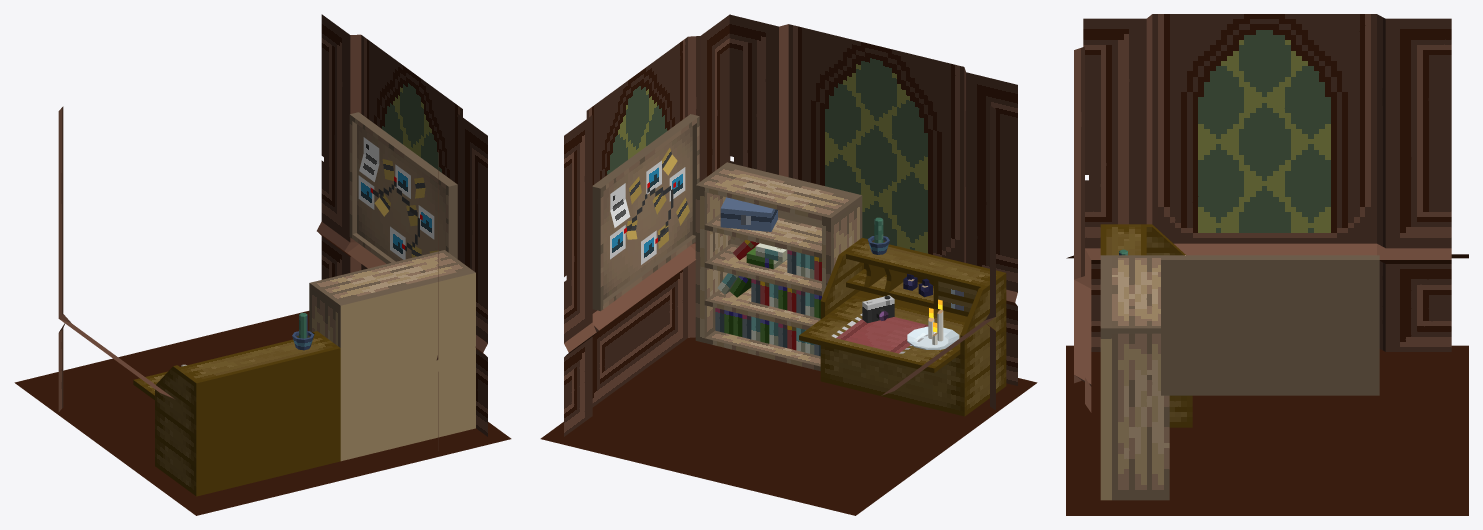
File: office.glb
3 views of the same model, side by side, from view 1: azimuth 30°, elevation 25°; view 2: azimuth 150°, elevation 25°; view 3: azimuth 270°, elevation 25° (orthographic). The views are drawn at different scales.
Visible parts, largest first — view 1: Table1, wall.001, cuboid.006, floor, board, cuboid.010, wall.003, cuboid.007, plane.005; view 2: wall.002, floor, wall.001, Table1, board, cuboid.010, cuboid.008, wall.003, cuboid.013, cuboid.012, plane, cuboid.011 (+7 smaller); view 3: wall.003, floor, board, cuboid.008, wall.002, cuboid.010, Table1, cuboid.006.
Part boxes in pixels (box(x1,y1,x2,y2)): Table1: box(133, 331, 340, 496); wall.001: box(317, 14, 487, 436); cuboid.006: box(335, 269, 475, 461); floor: box(14, 311, 511, 515); board: box(349, 112, 457, 263); cuboid.010: box(309, 250, 470, 306); wall.003: box(58, 106, 175, 411); cuboid.007: box(309, 288, 335, 343); plane.005: box(359, 137, 379, 181); wall.002: box(729, 14, 1017, 385); floor: box(540, 337, 1037, 515); wall.001: box(564, 14, 730, 436); Table1: box(799, 237, 1006, 416); board: box(592, 114, 699, 311); cuboid.010: box(695, 166, 856, 222); cuboid.008: box(695, 190, 730, 342); wall.003: box(881, 105, 995, 410); cuboid.013: box(704, 213, 821, 258); cuboid.012: box(704, 244, 821, 295); plane: box(831, 313, 928, 353); cuboid.011: box(704, 287, 820, 329); wall.003: box(1083, 14, 1451, 351); floor: box(1066, 254, 1468, 515); board: box(1161, 255, 1379, 395); cuboid.008: box(1112, 333, 1169, 500); wall.002: box(1074, 46, 1091, 412); cuboid.010: box(1112, 255, 1160, 333); Table1: box(1100, 224, 1192, 427); cuboid.006: box(1100, 255, 1111, 500).
Size of the model in its own units: 4.38 by 4 by 4.38.
24 materials, 24 textured.
